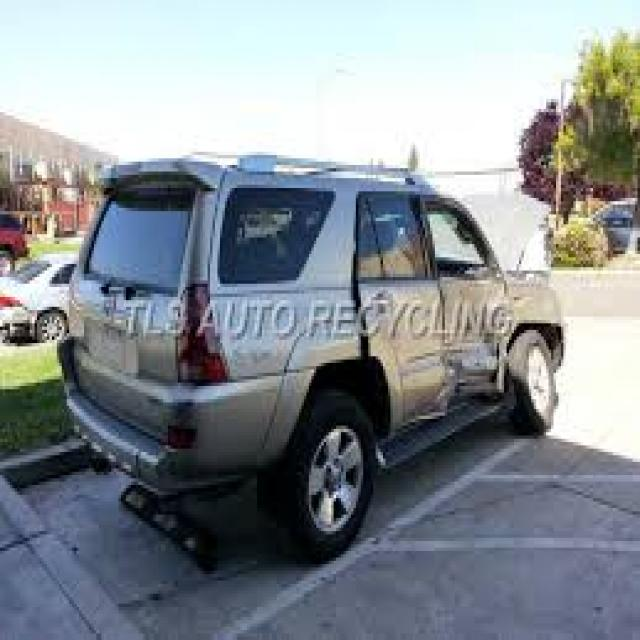moderate: (368, 274, 567, 450)
